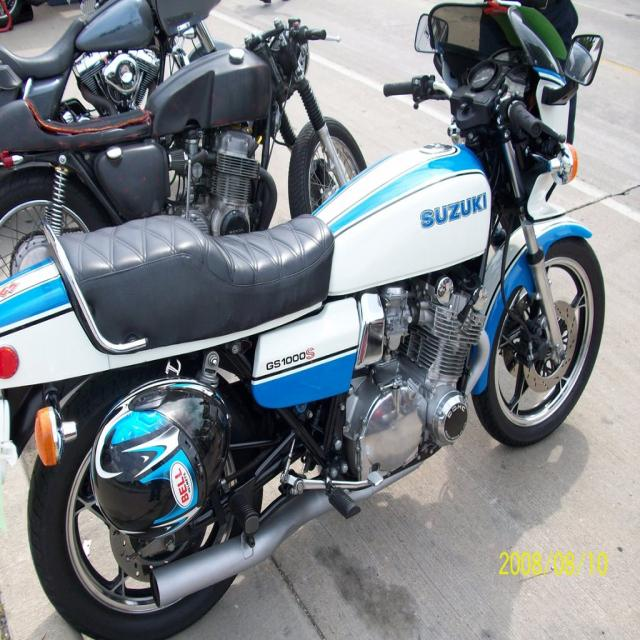Motorbikes: (2, 1, 620, 631)
